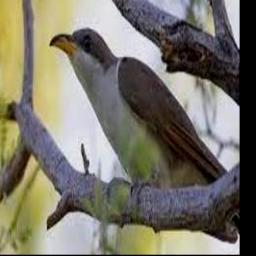Cuckoo: (50, 27, 230, 189)
